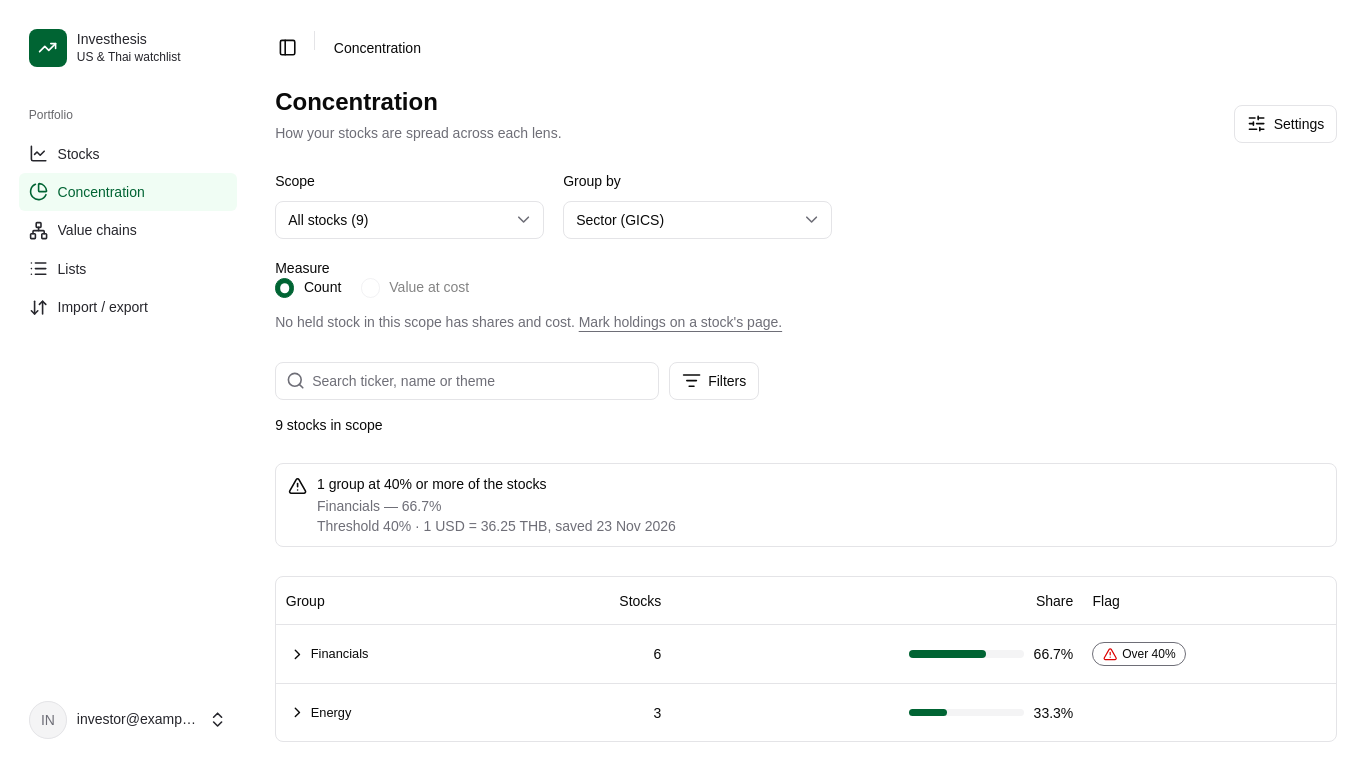
Scenario: concentration settings dialog › TC-U-481: a new threshold changes the flags and sends only the threshold
The image size is (1366, 768).
Expected: the heading "Concentration" is shown, [275, 88, 438, 115]
Expected: the text "Over 33%" is not shown
Click the button "Settings" at (1286, 124), box [1234, 105, 1337, 143]
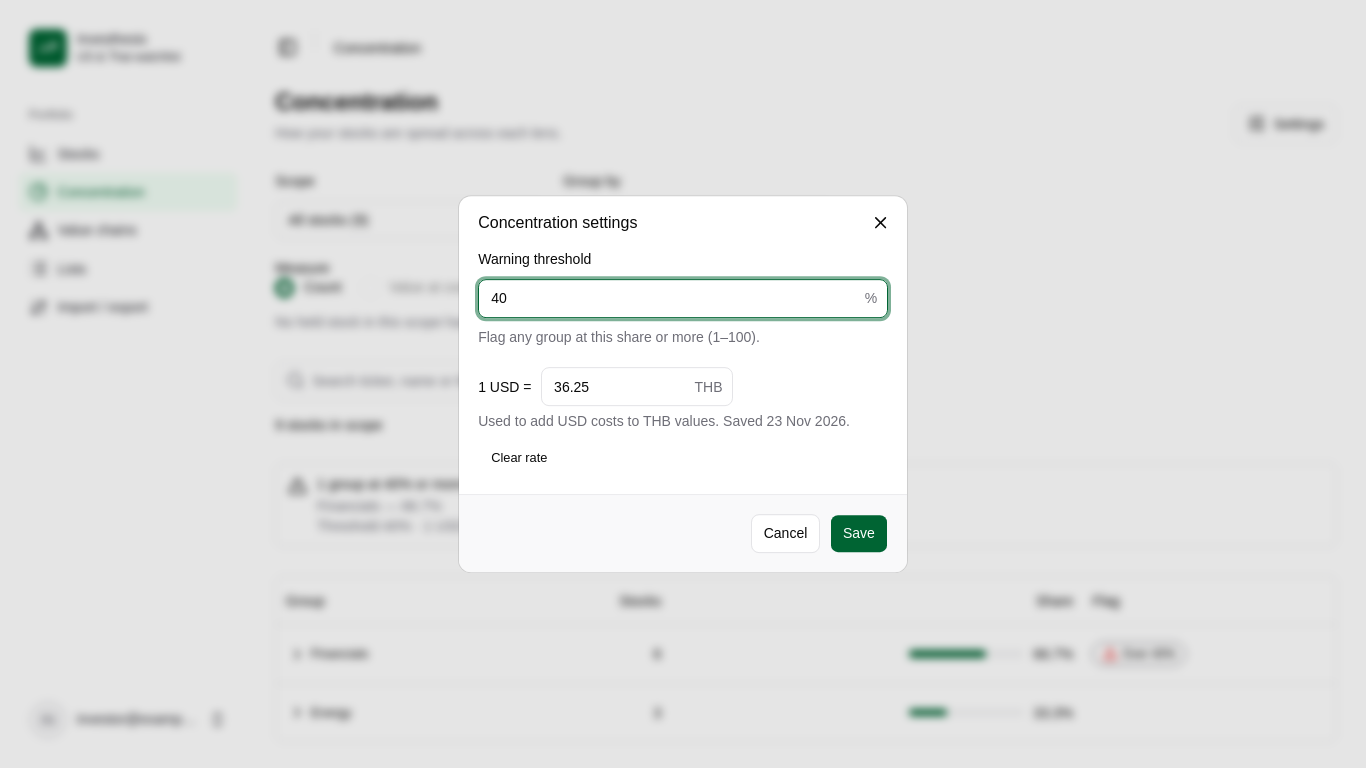
Replace the text in the field labelled "Warning threshold" with "33" at (672, 299), box [479, 279, 865, 318]
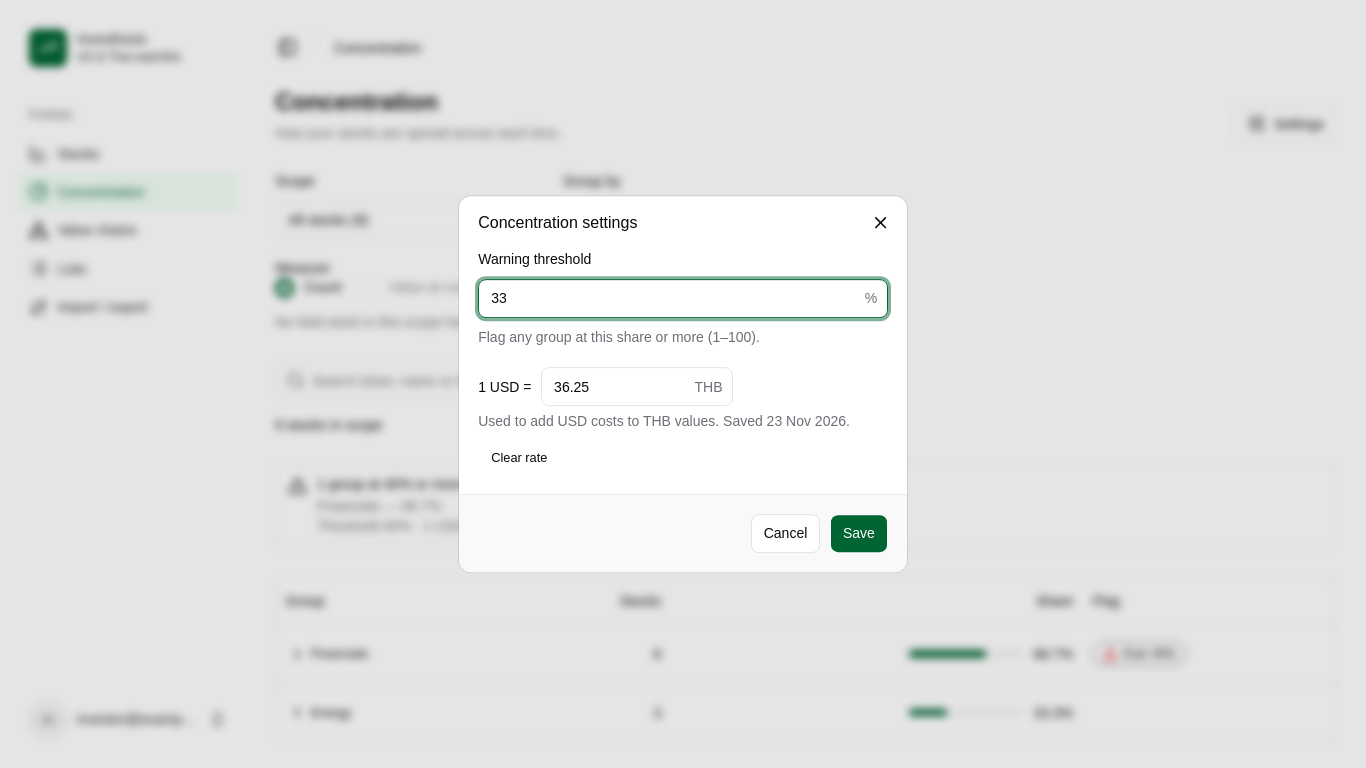
Click the button "Save" at (859, 534), box [830, 514, 888, 553]
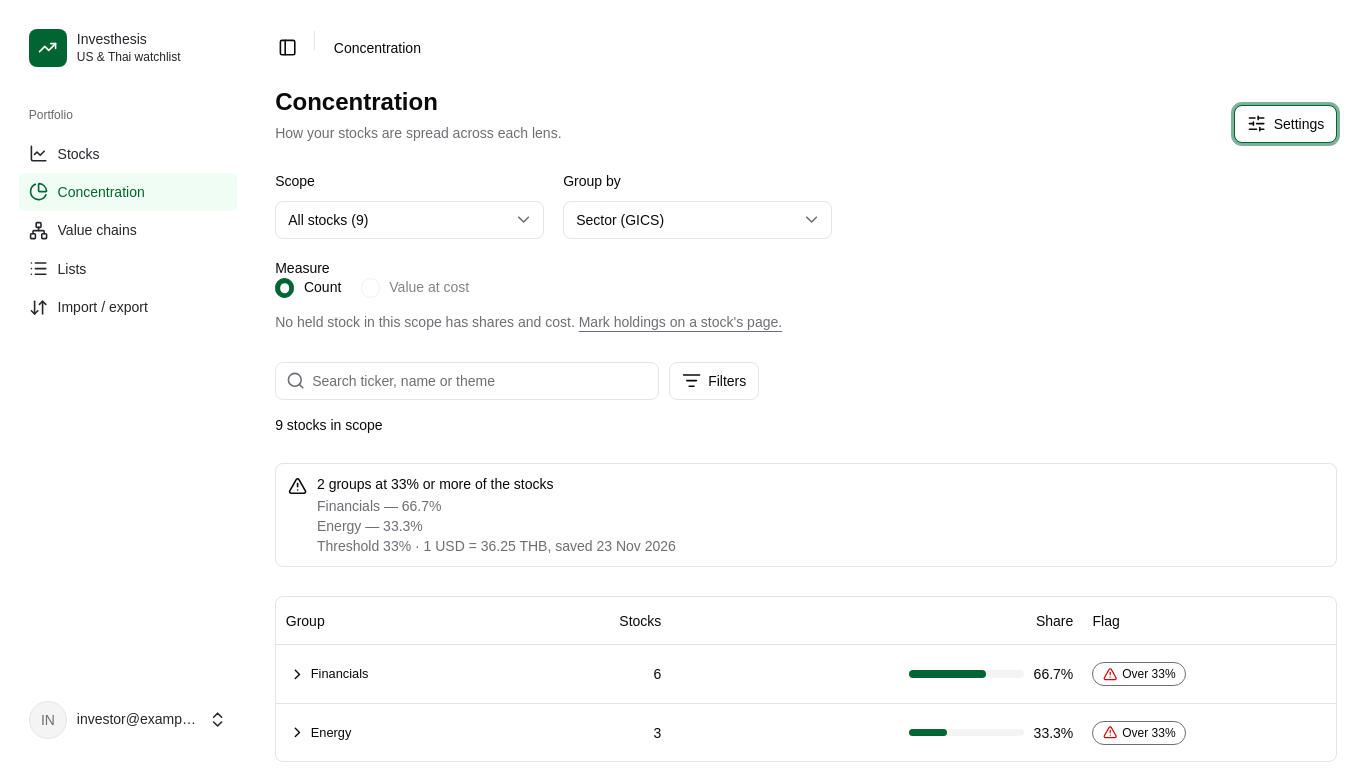
Now the dialog is gone
Now the 1st text "Over 33%" is shown, box [1092, 662, 1186, 686]
